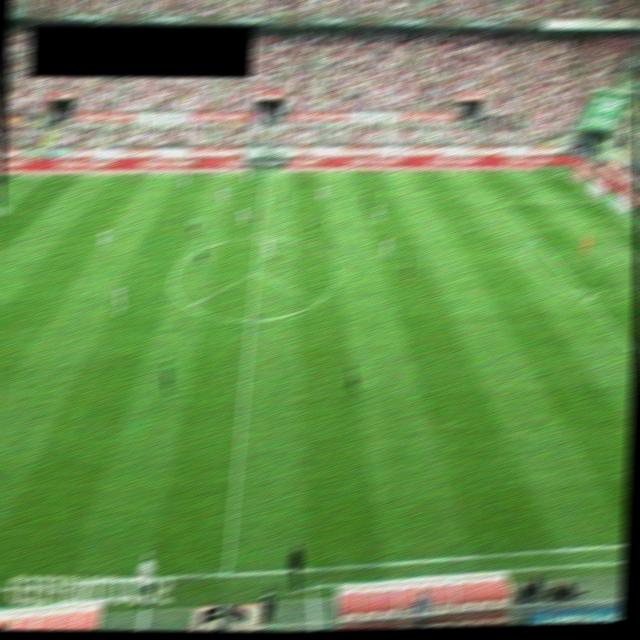bigarea_top_inner: (0, 201, 17, 215), (493, 195, 511, 207)
bigarea_top_outter: (593, 196, 608, 208)
bottom_arc_area_intersection: (580, 293, 596, 305)
corner: (554, 167, 569, 178)
halfcircle_bottom: (243, 315, 259, 326)
halfcircle_top: (250, 232, 266, 243)
midline_bottom_intersection: (218, 566, 236, 580)
midline_top_intersection: (257, 168, 273, 179)
smallarea_top_inner: (598, 226, 613, 237)
smallarea_top_outter: (633, 226, 638, 236)
top_arc_area_intersection: (529, 234, 544, 245)
